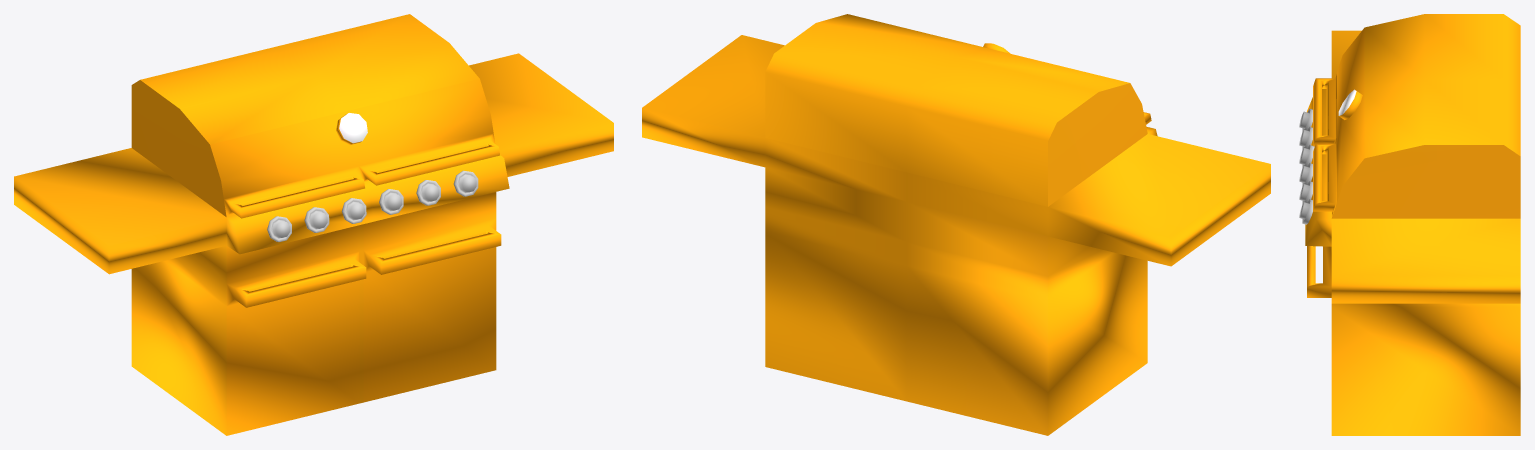
The model's file is BarbecueGrillGold.glb.
3 renders of one model, left to right at view 1: azimuth 30°, elevation 25°; view 2: azimuth 150°, elevation 25°; view 3: azimuth 270°, elevation 25°, orthographic. The views are drawn at different scales.
Visible parts, largest first — view 1: BarbecueGrillGold; view 2: BarbecueGrillGold; view 3: BarbecueGrillGold.
Boxes of the visible parts, left/top/right/bottom form: BarbecueGrillGold: left=14, top=14, right=613, bottom=435; BarbecueGrillGold: left=642, top=14, right=1270, bottom=435; BarbecueGrillGold: left=1299, top=14, right=1520, bottom=435.
Size of the model in its own units: 2.71 by 1.5 by 1.03.
1 material, 1 textured.
